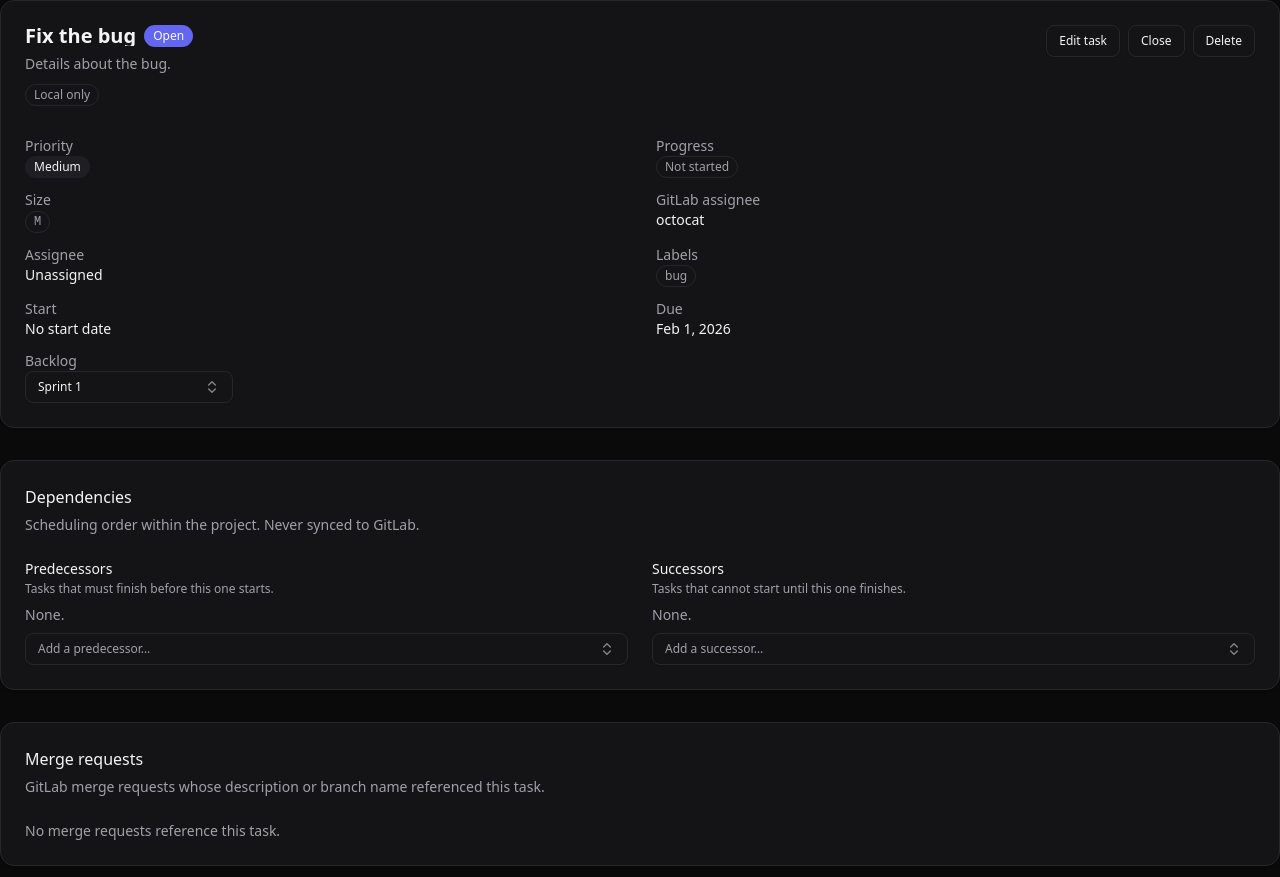
TaskDetail › shows an error and stays in the form when saving fails
Click the button "Edit task".
click(1083, 41)  # box [1046,25,1120,57]
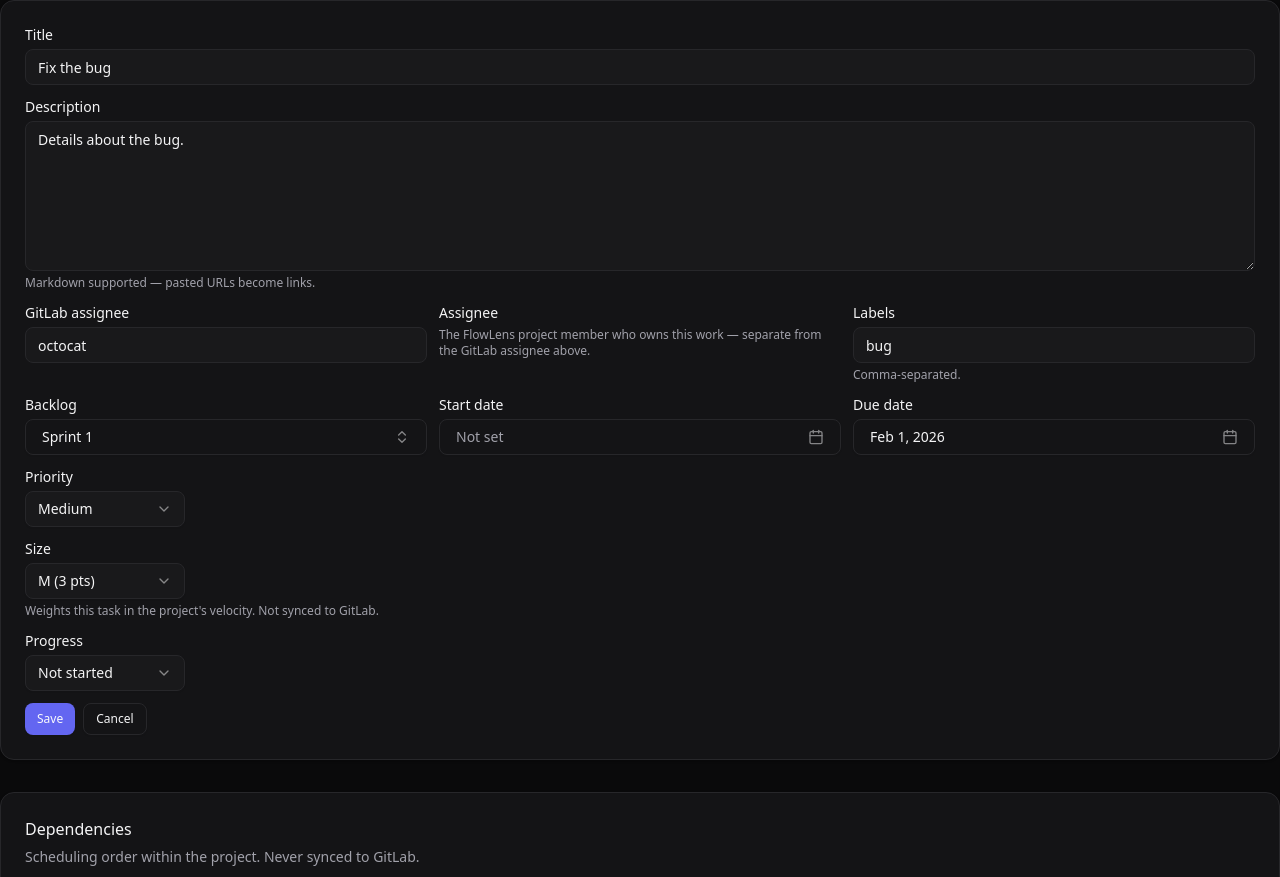
Click the button "Save".
click(50, 719)  # box [25,703,75,735]
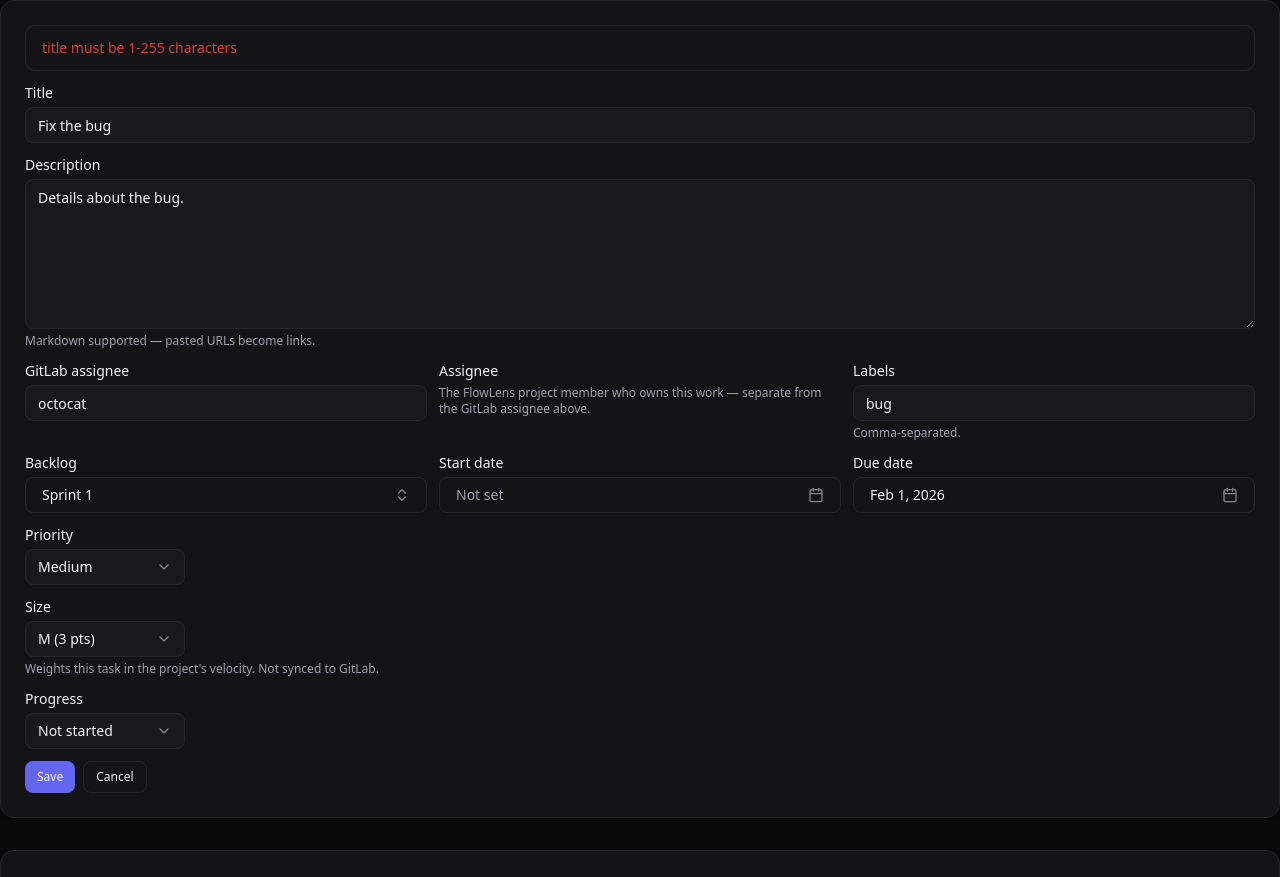
expect the form named "Edit task" is shown: met
expect the text "title must be 1-255 characters" is shown: met, box [42,38,237,57]
